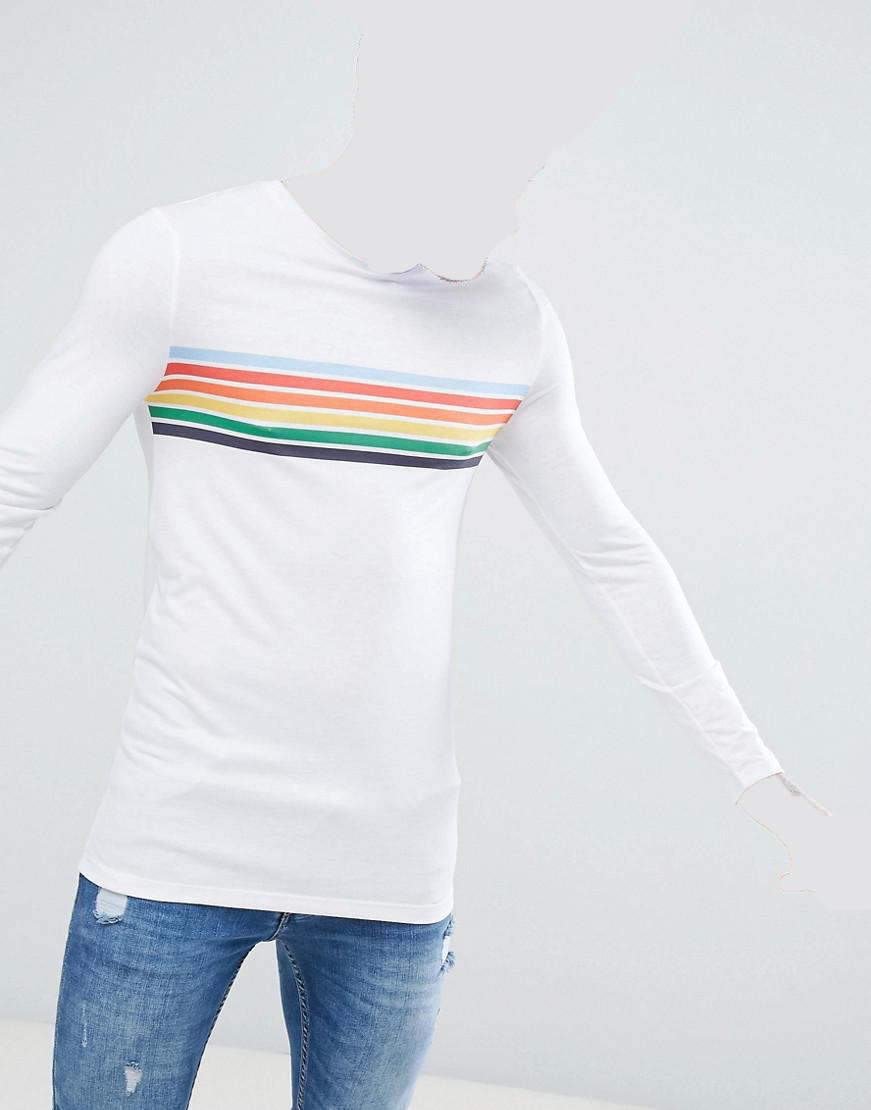teeshirt: (3, 173, 788, 937)
